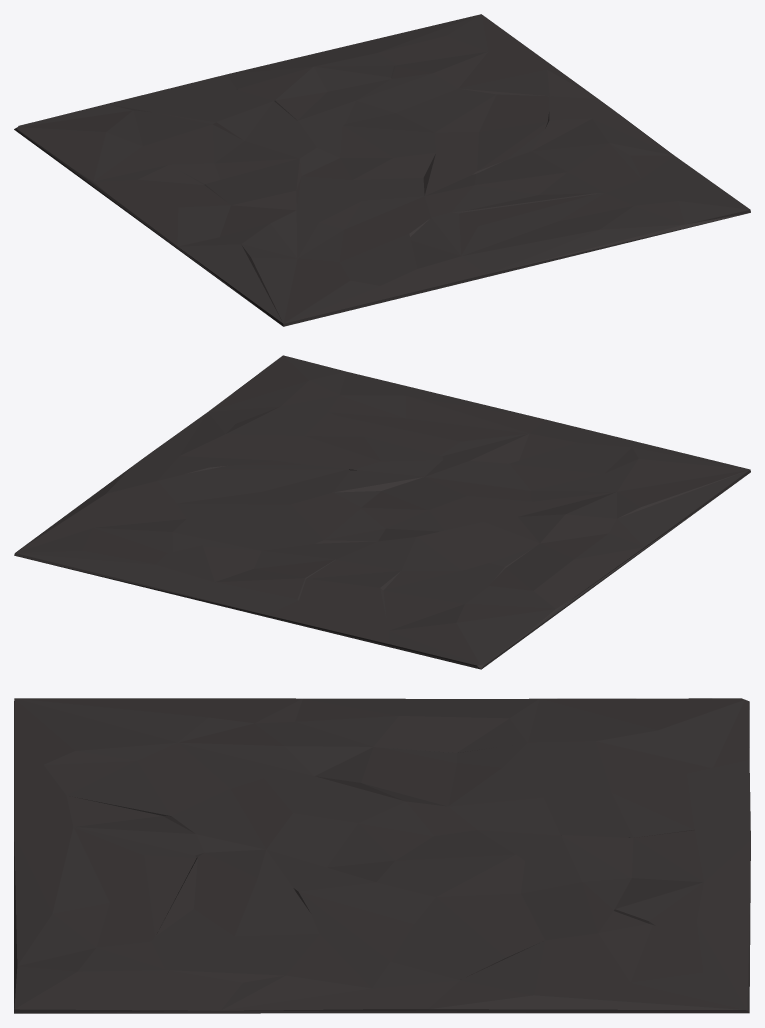
File: Module_Stone_4M.glb
3 renders of one model, top to bottom at view 1: azimuth 30°, elevation 25°; view 2: azimuth 150°, elevation 25°; view 3: azimuth 270°, elevation 25°, orthographic. The views are drawn at different scales.
Visible parts, largest first — view 1: Module_Stone_4M; view 2: Module_Stone_4M; view 3: Module_Stone_4M.
Part boxes in pixels (x1=…): Module_Stone_4M: x1=14, y1=14, x2=750, y2=326; Module_Stone_4M: x1=14, y1=355, x2=750, y2=669; Module_Stone_4M: x1=14, y1=698, x2=750, y2=1013.
Size of what is drawn, in the model's own units: 4 by 0.0792 by 4.
Materials: 1 (1 with a texture image).
